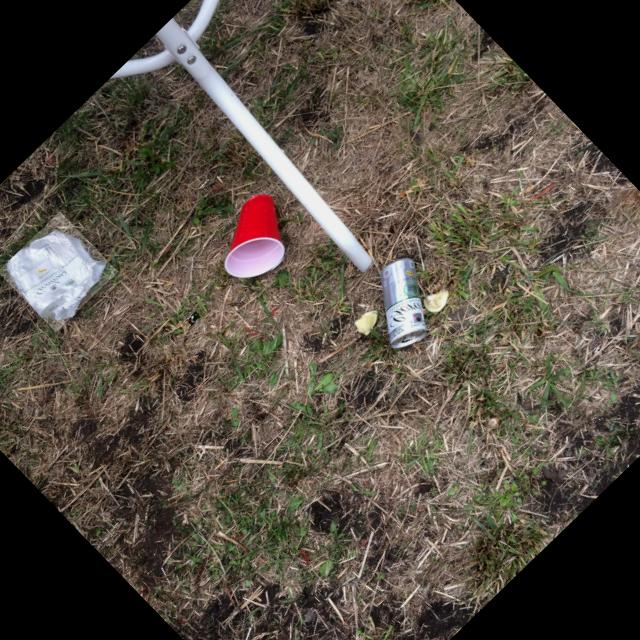Cup: (225, 195, 286, 278)
Drink can: (381, 257, 427, 348)
Plastic film: (8, 231, 108, 321)
Pop tab: (188, 313, 199, 325)
